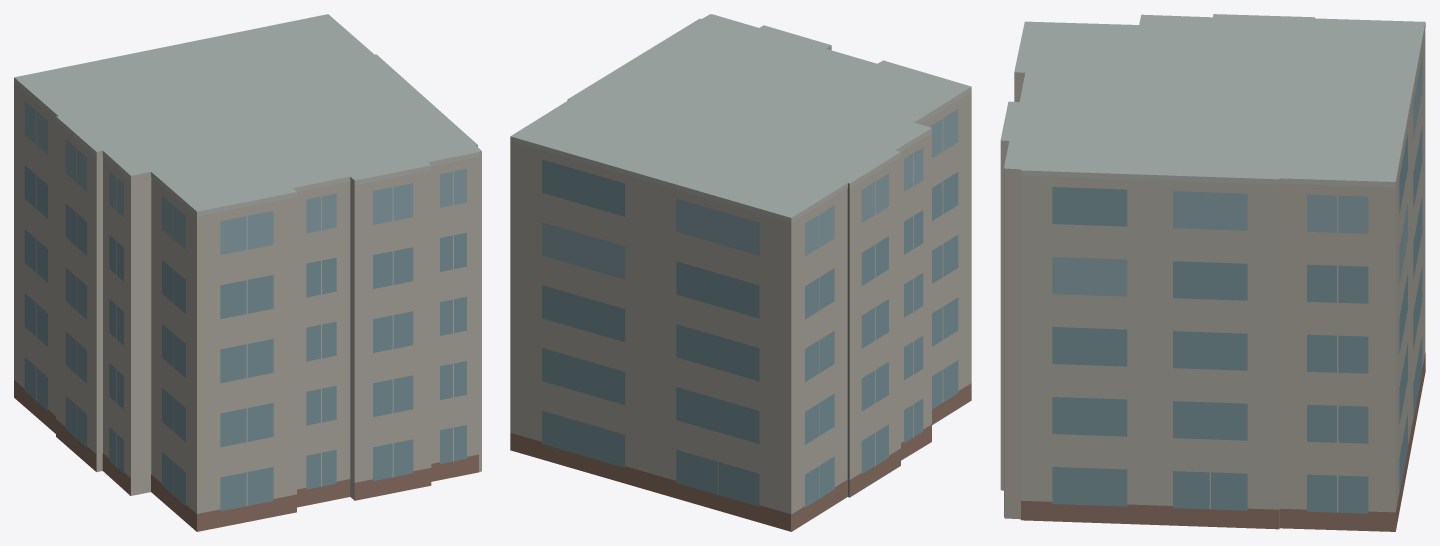
Rendered from survey-upis-32990620.glb.
The picture shows the model from 3 angles, left to right: view 1: azimuth 30°, elevation 25°; view 2: azimuth 150°, elevation 25°; view 3: azimuth 270°, elevation 25°; orthographic projection. The views are drawn at different scales.
Parts seen in each view (by area): view 1: survey-upis-32990620.tmp; view 2: survey-upis-32990620.tmp; view 3: survey-upis-32990620.tmp.
Part boxes in pixels (<box>): survey-upis-32990620.tmp: <box>14,14,481,531</box>; survey-upis-32990620.tmp: <box>510,14,971,531</box>; survey-upis-32990620.tmp: <box>1000,14,1425,531</box>.
Bounding box in the file's own units: 16.43 × 15.95 × 17.57.
